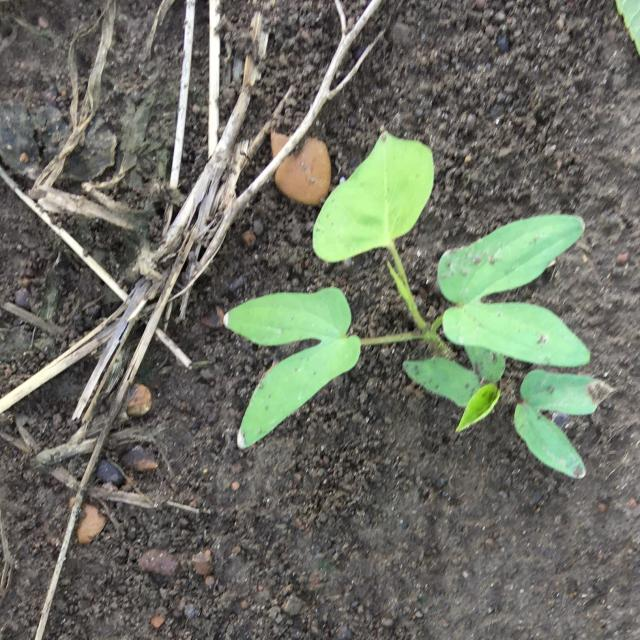MorningGlory: (223, 130, 611, 479)
